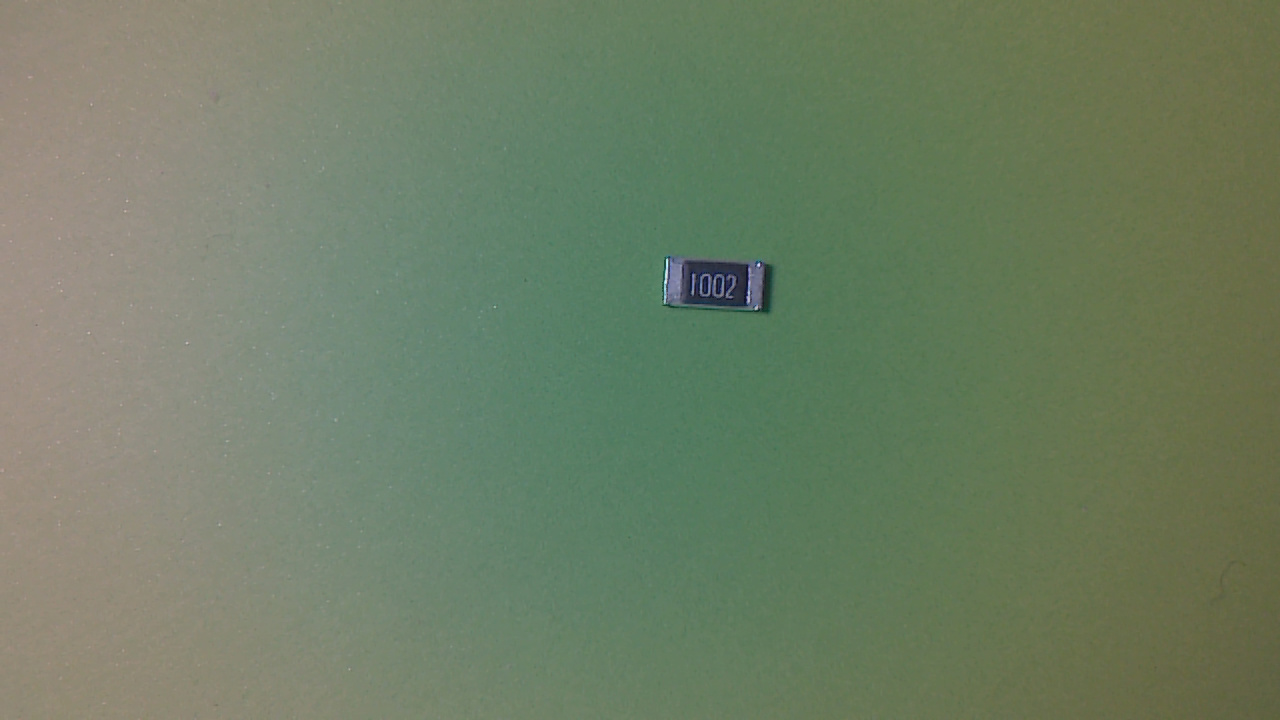Resistor: (661, 254, 783, 321)
